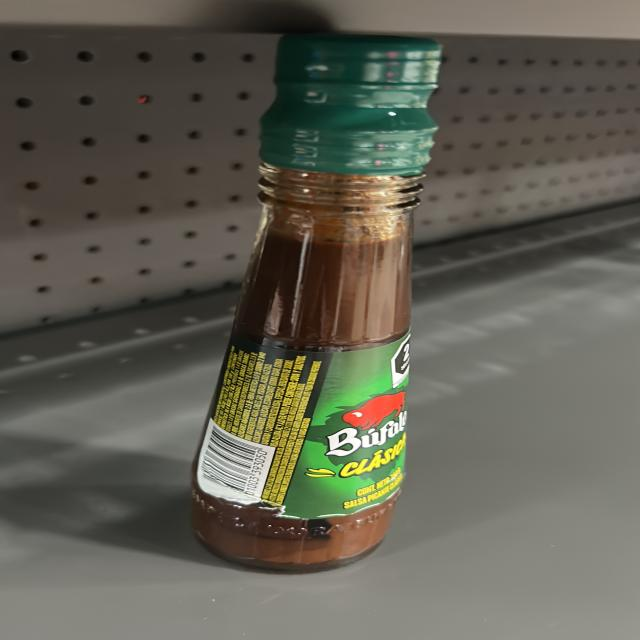salsaBufalo: (232, 30, 412, 558)
